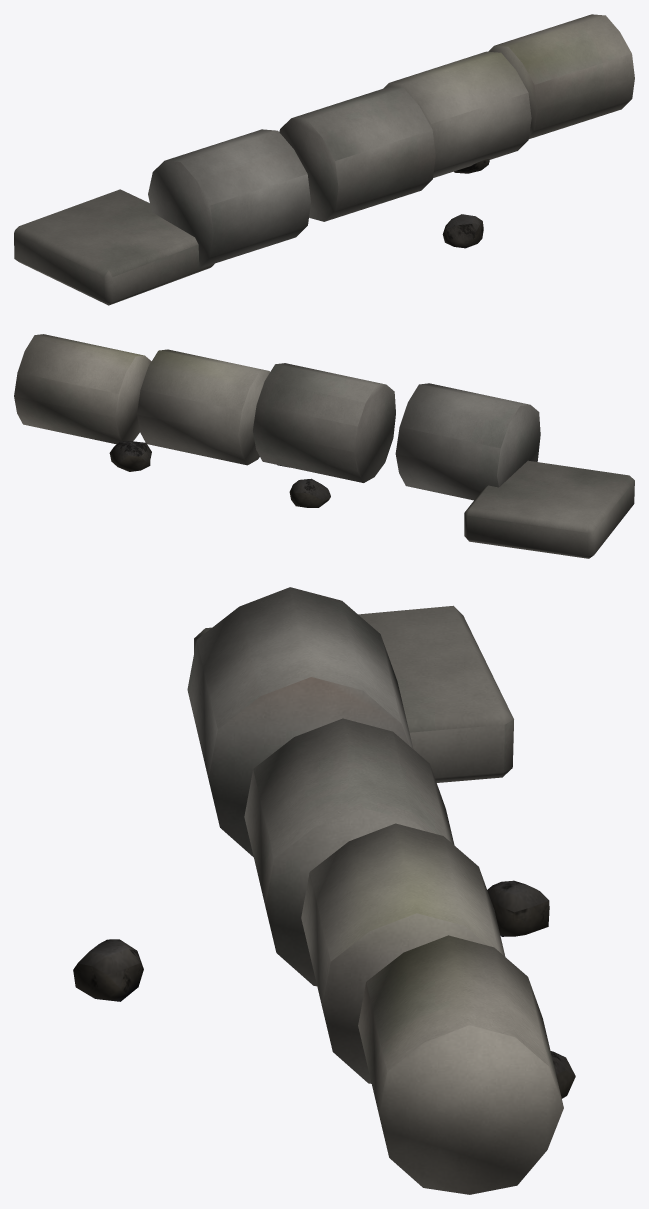
The model's file is ruin_column_fallen.glb.
3 renders of one model, top to bottom at view 1: azimuth 30°, elevation 25°; view 2: azimuth 150°, elevation 25°; view 3: azimuth 270°, elevation 25°, orthographic. The views are drawn at different scales.
Parts seen in each view (by area): view 1: ruin_column_fallen; view 2: ruin_column_fallen; view 3: ruin_column_fallen.
Part boxes in pixels (<box>): ruin_column_fallen: <box>14,14,634,305</box>; ruin_column_fallen: <box>14,334,634,558</box>; ruin_column_fallen: <box>73,587,575,1194</box>.
Size of the model in its own units: 6.13 by 1.04 by 2.38.
Materials: 2 (2 with a texture image).
